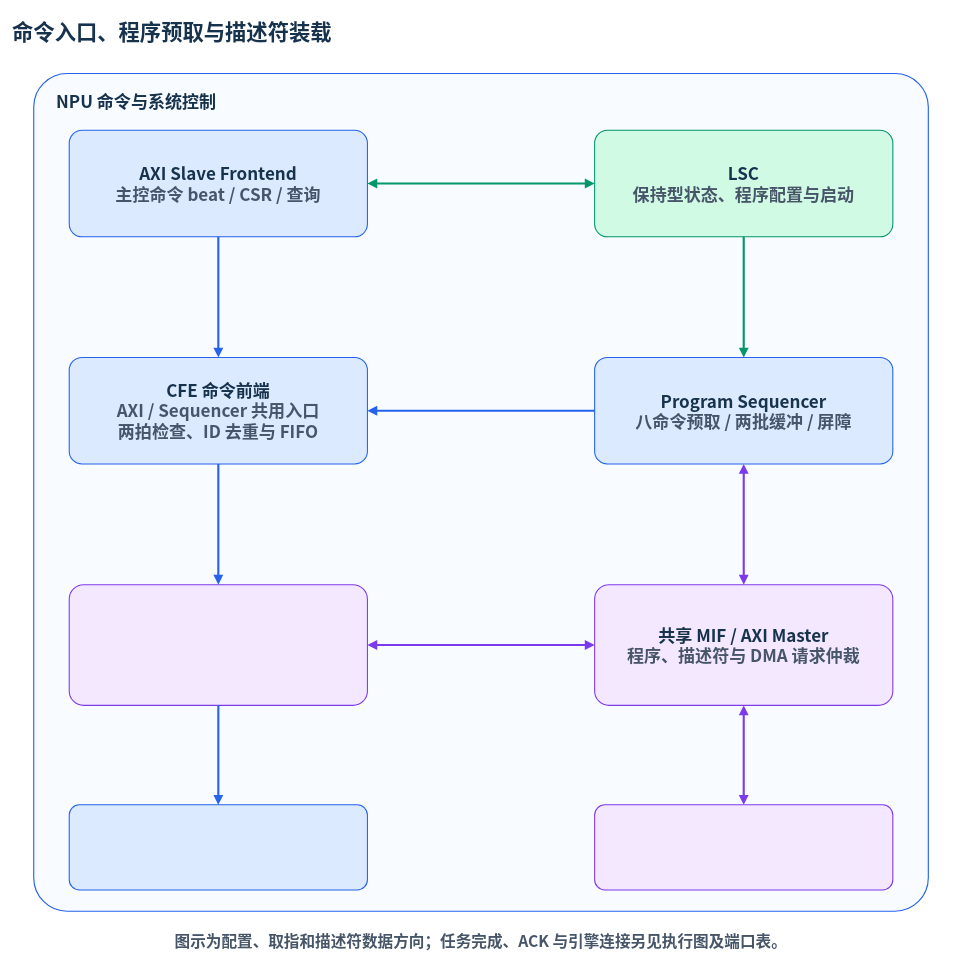
Image size: 961x967. Some labels were removed from this diagram. Each missing label, with the centre of its shape:
SoC 存储返回 DDR 静态程序和只读描述符: point 743,847
TaskScheduler 接纳命令及记录，等待和派发: point 218,847
外部描述符装载器 缓存与续接模板；展开紧凑内联: point 218,645
